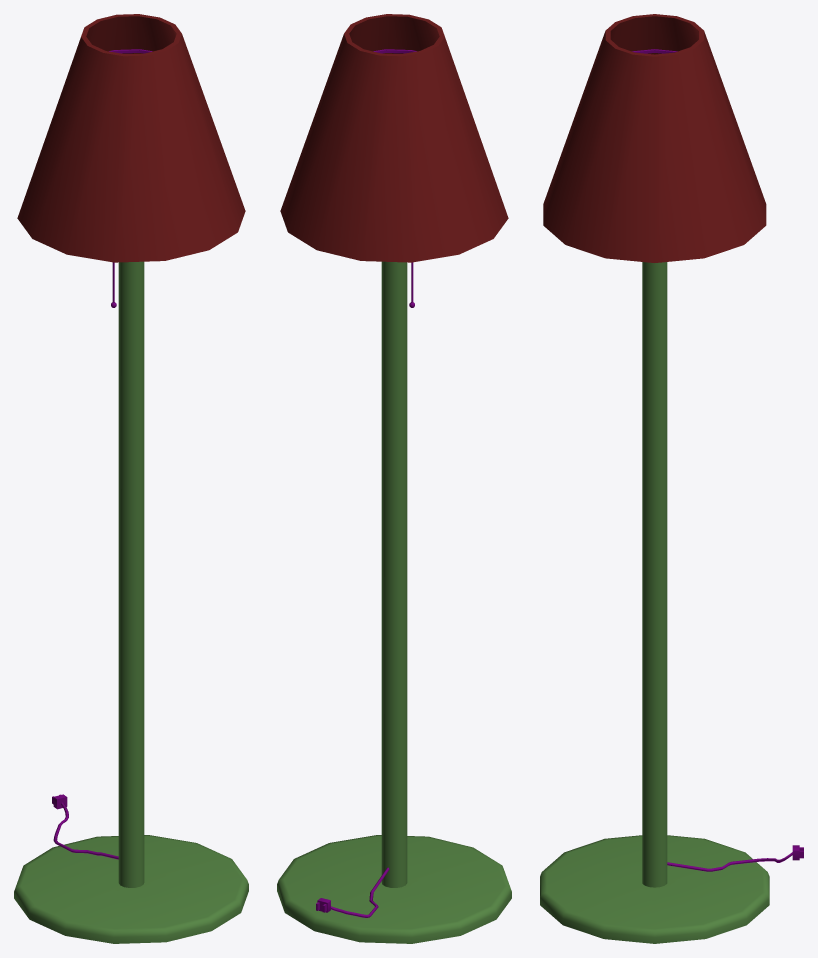
File: SM_Lamp.fbx
3 renders of one model, left to right at view 1: azimuth 30°, elevation 25°; view 2: azimuth 150°, elevation 25°; view 3: azimuth 270°, elevation 25°, orthographic.
Parts seen in each view (by area): view 1: SM_Lamp; view 2: SM_Lamp; view 3: SM_Lamp.
Part boxes in pixels (<box>): SM_Lamp: <box>14,14,248,943</box>; SM_Lamp: <box>277,14,511,943</box>; SM_Lamp: <box>540,14,803,943</box>.
Size of the model in its own units: 53.5 by 215 by 59.97.
